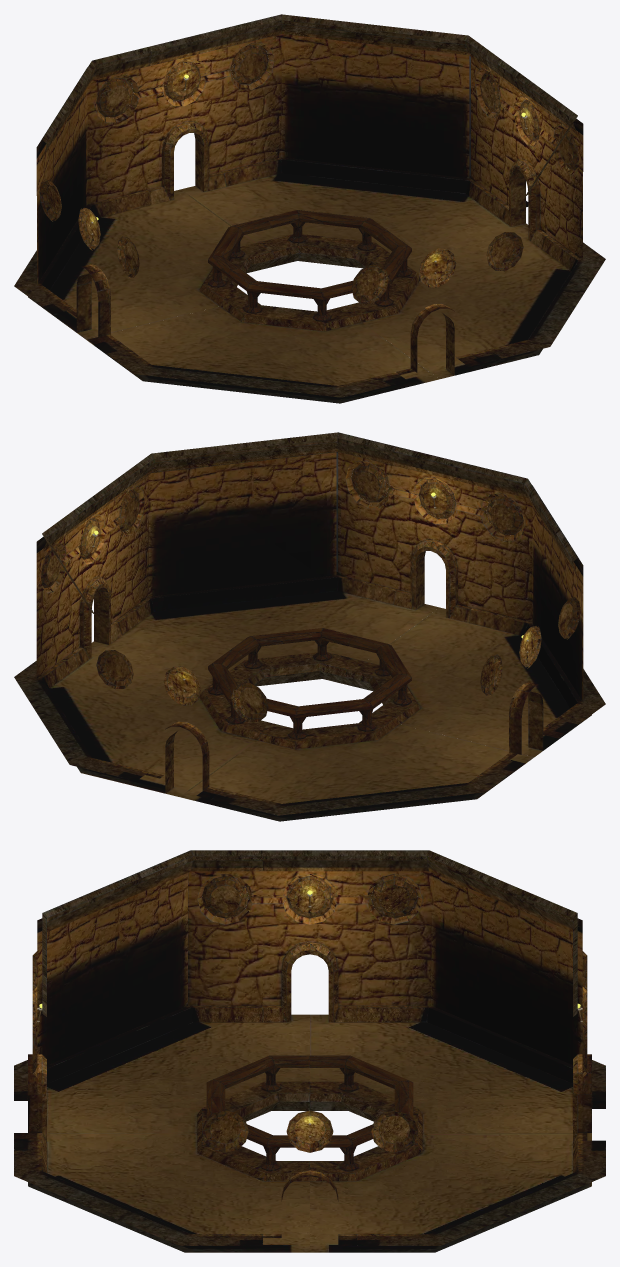
File: MainRoom-transformed.glb
3 views of the same model, one above another, from view 1: azimuth 30°, elevation 25°; view 2: azimuth 150°, elevation 25°; view 3: azimuth 270°, elevation 25° (orthographic). The views are drawn at different scales.
Parts seen in each view (by area): view 1: floorCol, lowerwallCol, object1.021, railing1; view 2: floorCol, lowerwallCol, object1.021, railing1; view 3: floorCol, lowerwallCol, object1.021, railing1.
Part boxes in pixels (bbox=[...]): floorCol: bbox=[28, 173, 571, 403]; lowerwallCol: bbox=[36, 34, 583, 284]; object1.021: bbox=[14, 14, 605, 397]; railing1: bbox=[208, 210, 411, 321]; floorCol: bbox=[48, 591, 591, 821]; lowerwallCol: bbox=[36, 452, 583, 701]; object1.021: bbox=[14, 432, 605, 815]; railing1: bbox=[208, 628, 411, 739]; floorCol: bbox=[28, 1014, 591, 1252]; lowerwallCol: bbox=[32, 871, 587, 1077]; object1.021: bbox=[14, 850, 605, 1245]; railing1: bbox=[206, 1055, 413, 1170].
Size of the model in its own units: 6.3 by 2.2 by 6.3.
7 materials, 6 textured.
